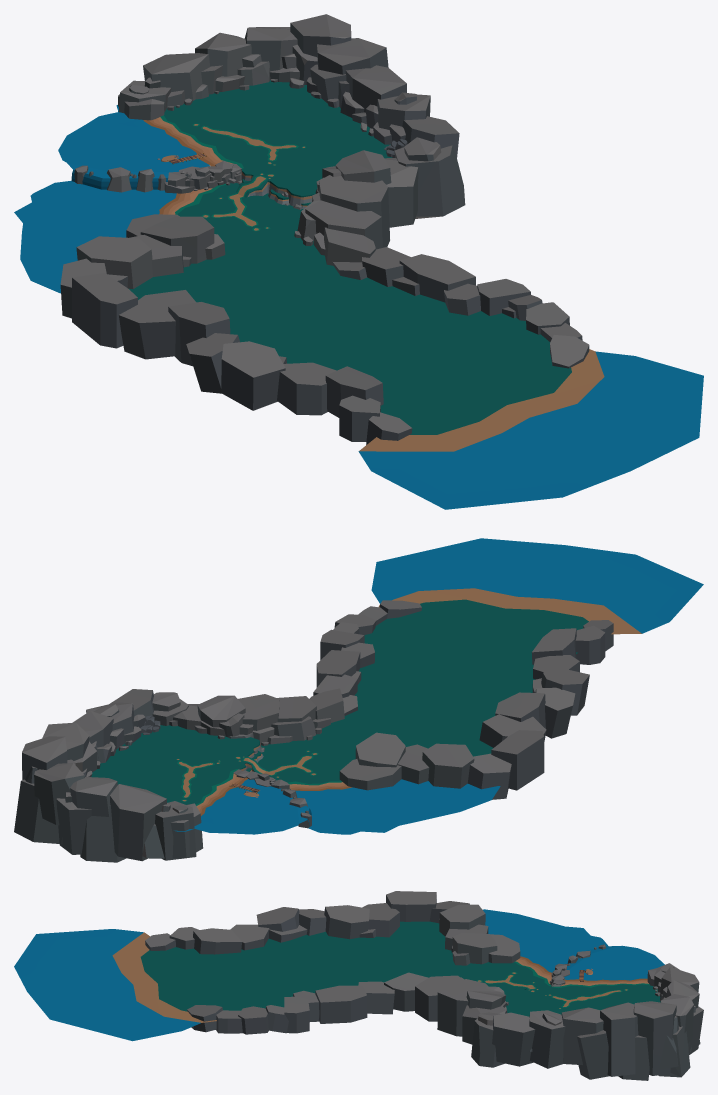
File: dachangjing_dixing.FBX
The picture shows the model from 3 angles, top to bottom: view 1: azimuth 30°, elevation 25°; view 2: azimuth 150°, elevation 25°; view 3: azimuth 270°, elevation 25°; orthographic projection. The views are drawn at different scales.
Visible parts, largest first — view 1: caodi, haimianpubu, shitou05, shitou01, shitou03, shitou02, dimian, shitou04, daolu02, daolu01; view 2: caodi, haimianpubu, shitou05, shitou02, shitou01, shitou03, dimian, shitou04, daolu02; view 3: caodi, haimianpubu, shitou05, shitou03, shitou01, dimian, shitou02, shitou04, daolu01.
Part boxes in pixels (box(x1,y1,x2,y2)): caodi: box(128, 80, 571, 434); haimianpubu: box(14, 105, 703, 509); shitou05: box(60, 247, 589, 444); shitou01: box(76, 137, 465, 288); shitou03: box(289, 14, 459, 157); shitou02: box(118, 27, 299, 120); dimian: box(143, 115, 604, 451); shitou04: box(74, 160, 250, 193); daolu02: box(202, 173, 274, 231); daolu01: box(192, 123, 305, 165); caodi: box(91, 599, 588, 804); haimianpubu: box(174, 538, 703, 834); shitou05: box(313, 600, 613, 799); shitou02: box(14, 763, 203, 862); shitou01: box(140, 688, 474, 790); shitou03: box(22, 689, 153, 783); dimian: box(196, 588, 641, 815); shitou04: box(233, 767, 311, 828); daolu02: box(235, 750, 318, 777); caodi: box(140, 921, 660, 1016); haimianpubu: box(14, 909, 664, 1041); shitou05: box(145, 891, 469, 1034); shitou03: box(492, 1001, 678, 1080); shitou01: box(384, 904, 520, 1067); dimian: box(112, 932, 649, 1022); shitou02: box(647, 963, 703, 1077); shitou04: box(549, 944, 605, 986); daolu01: box(545, 989, 628, 1009).
Bounding box in the file's own units: 127 × 27.71 × 250.
